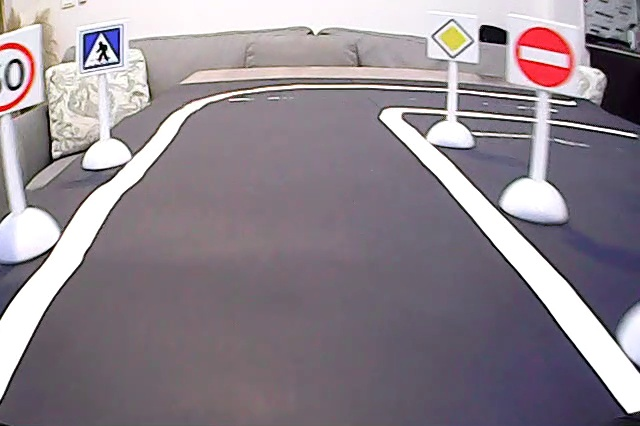do not enter: (509, 14, 575, 93)
pedestrian crossing: (80, 29, 125, 71)
